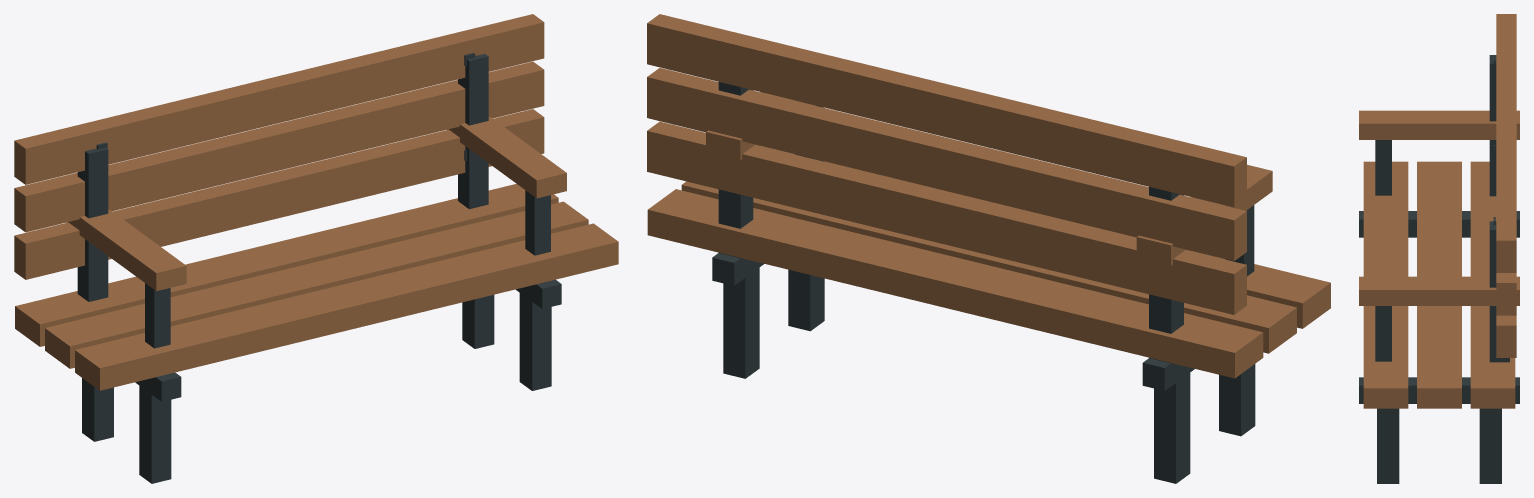
The model's file is LM_PROP_BenchMamak.glb.
The picture shows the model from 3 angles, left to right: view 1: azimuth 30°, elevation 25°; view 2: azimuth 150°, elevation 25°; view 3: azimuth 270°, elevation 25°; orthographic projection. The views are drawn at different scales.
Visible parts, largest first — view 1: LM_PROP_BenchMamak; view 2: LM_PROP_BenchMamak; view 3: LM_PROP_BenchMamak.
Boxes of the visible parts, x1,y1,x2,y2 form: LM_PROP_BenchMamak: [14, 14, 618, 483]; LM_PROP_BenchMamak: [647, 14, 1330, 483]; LM_PROP_BenchMamak: [1359, 14, 1519, 483].
Size of the model in its own units: 2.4 by 1.33 by 0.72.
